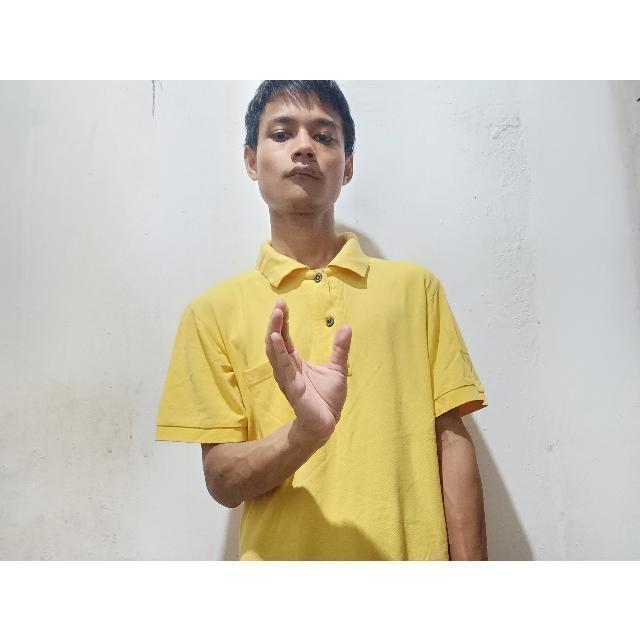U: (262, 296, 360, 432)
